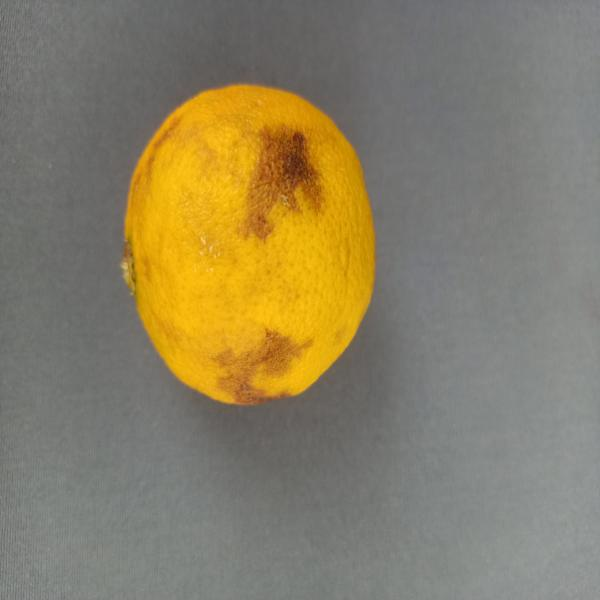Scab: (113, 70, 397, 418)
